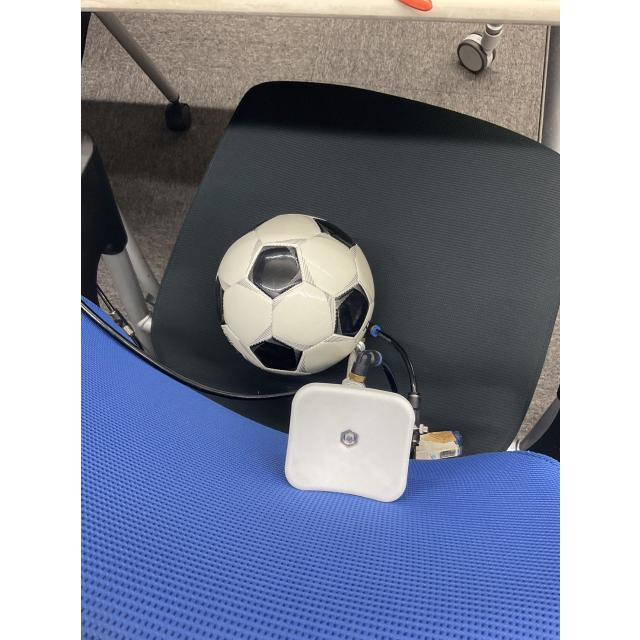ball: (213, 210, 375, 374)
